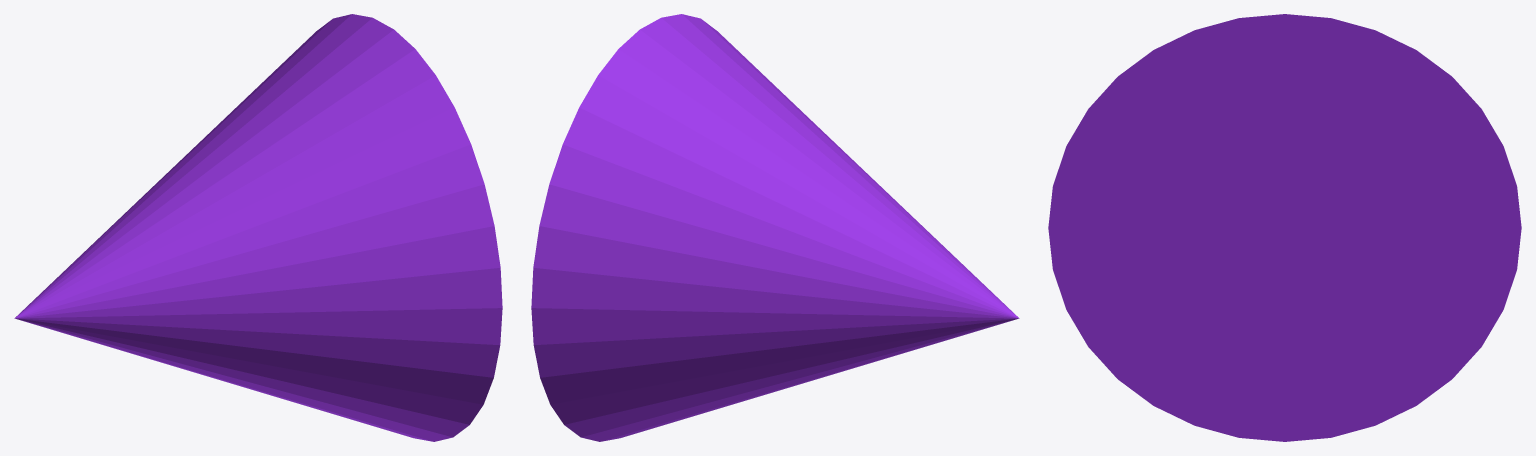
The model's file is myConeN1.fbx.
3 views of the same model, side by side, from view 1: azimuth 30°, elevation 25°; view 2: azimuth 150°, elevation 25°; view 3: azimuth 270°, elevation 25° (orthographic). The views are drawn at different scales.
Visible parts, largest first — view 1: Cone; view 2: Cone; view 3: Cone.
Part boxes in pixels (x1,y1,x2,y2): Cone: (14,14,502,441); Cone: (531,14,1019,441); Cone: (1048,14,1521,441).
Size of the model in its own units: 200 by 200 by 200.
